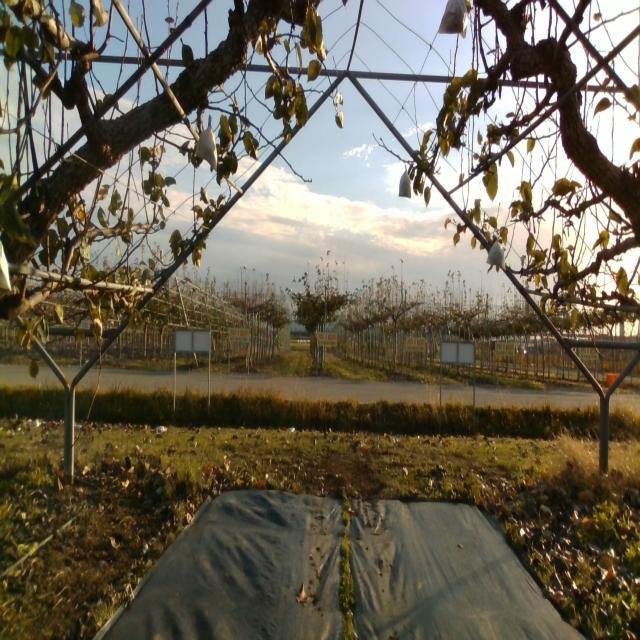pearbags: (194, 114, 217, 173), (437, 0, 469, 37), (486, 238, 506, 270), (398, 166, 411, 199)
